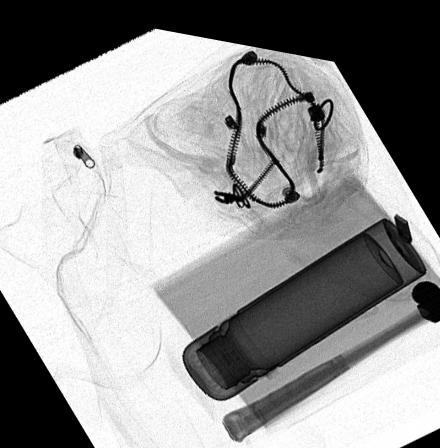Hammer: (219, 262, 440, 432)
